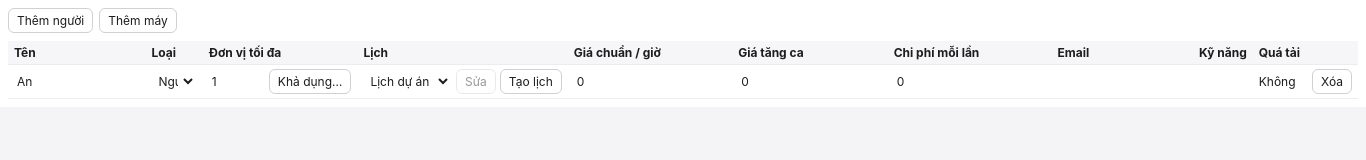
Test: ResourceSheet › reads max units with a comma or as hours per day
Replace the text in the field named "Đơn vị tối đa của An" with "0,5" at (237, 82), box [209,71,265,92]
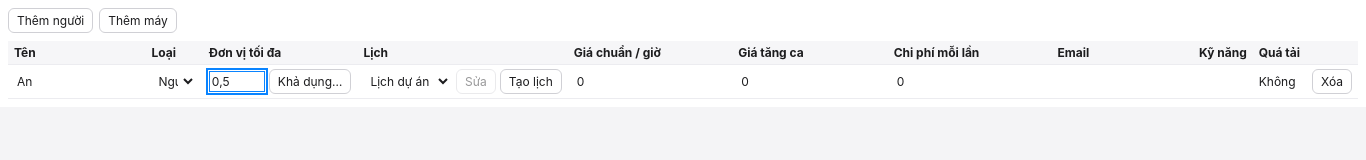
Press Tab
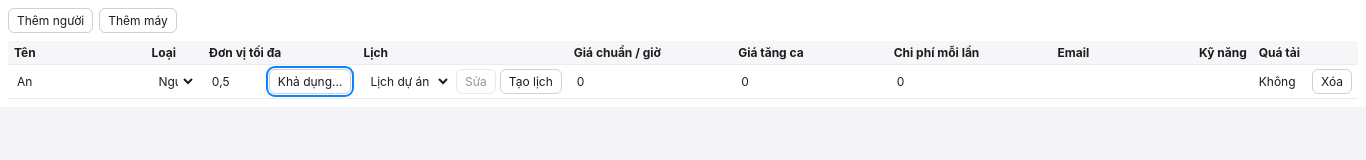
Replace the text in the field named "Đơn vị tối đa của An" with "4h/ngày" at (237, 82), box [209,71,265,92]
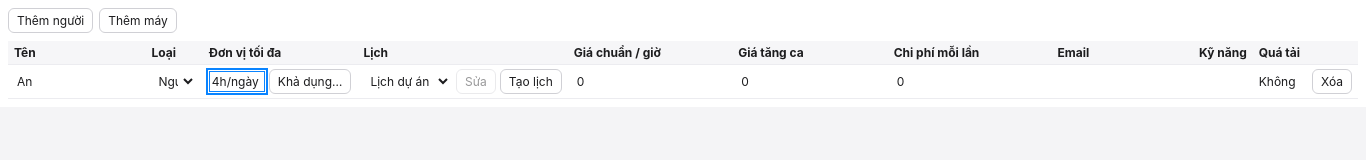
Press Tab
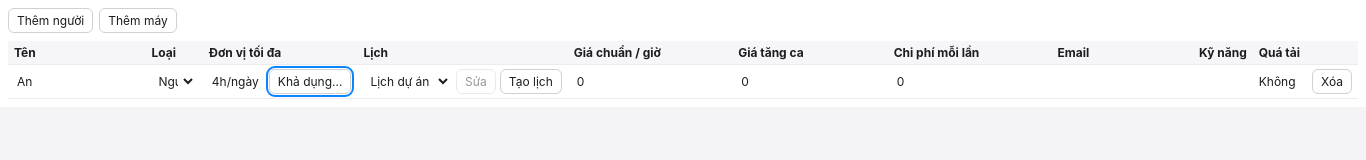
Replace the text in the field named "Đơn vị tối đa của An" with "nhiều" at (237, 82), box [209,71,265,92]
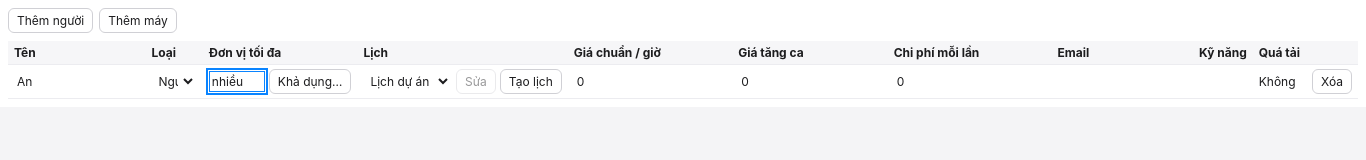
Press Tab
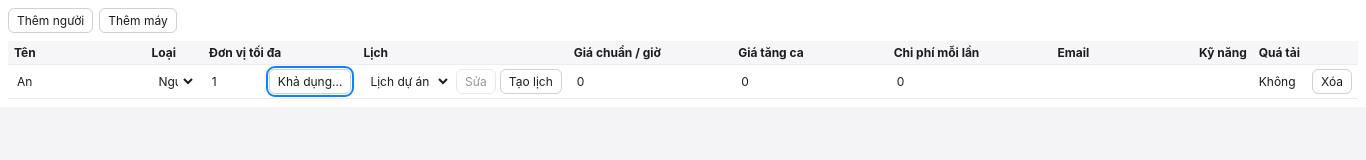
Check: the field named "Đơn vị tối đa của An" holds "1", box [209,71,265,92]
